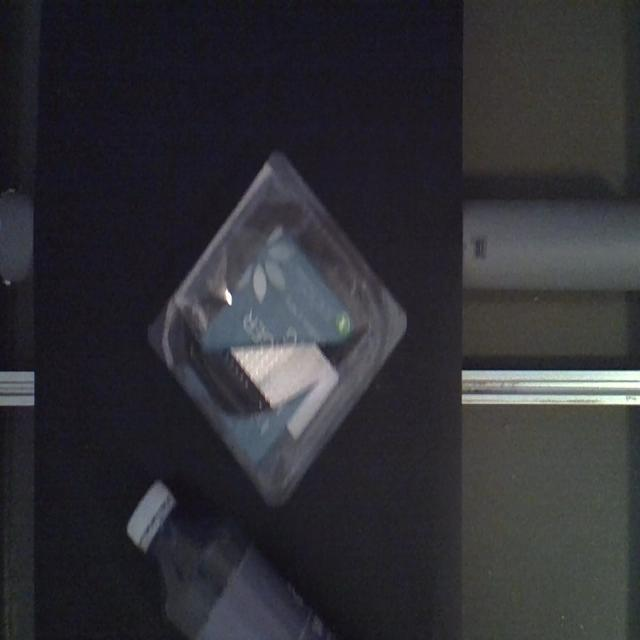bottle-plastic: (124, 477, 336, 638)
mixed-plastics: (146, 143, 412, 511)
